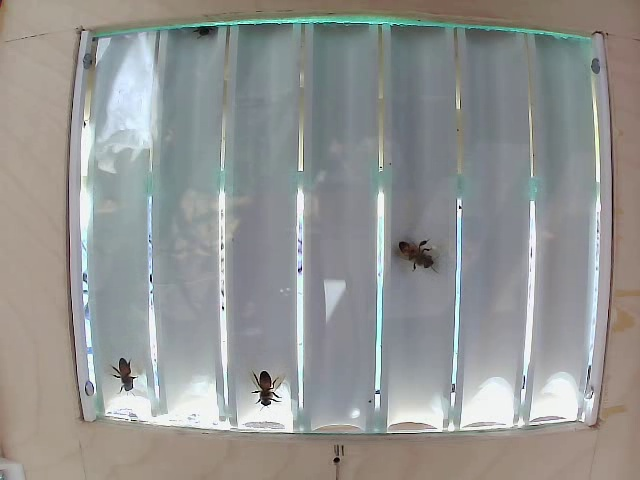bee: (384, 233, 439, 279), (245, 362, 290, 409)
